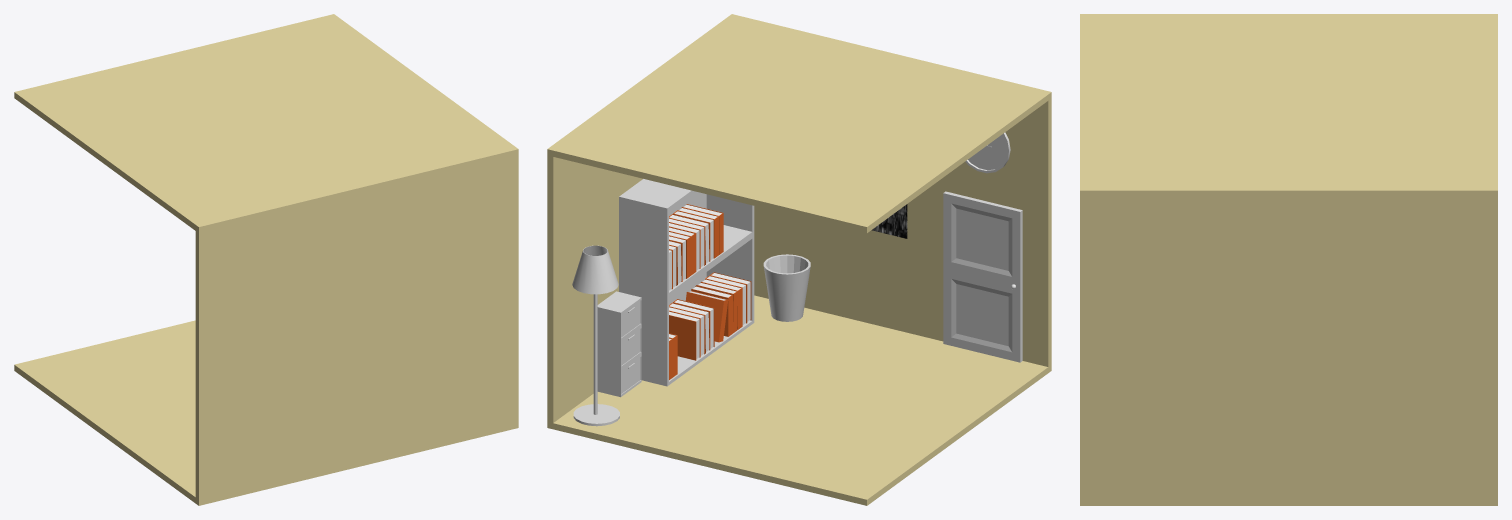
Rendered from Test_jeux_1.fbx.
3 views of the same model, side by side, from view 1: azimuth 30°, elevation 25°; view 2: azimuth 150°, elevation 25°; view 3: azimuth 270°, elevation 25° (orthographic). The views are drawn at different scales.
Visible parts, largest first — view 1: Box002; view 2: Box002, Box004, Box003, Box011, Box001, Cylinder001, Tube001, Cylinder002, Cylinder003, Box005, Cylinder004; view 3: Box002.
Boxes of the visible parts, x1=… form: Box002: x1=14, y1=14, x2=518, y2=505; Box002: x1=547, y1=14, x2=1051, y2=505; Box004: x1=619, y1=179, x2=754, y2=386; Box003: x1=943, y1=191, x2=1022, y2=362; Box011: x1=669, y1=204, x2=751, y2=379; Box001: x1=597, y1=291, x2=641, y2=397; Cylinder001: x1=763, y1=254, x2=810, y2=321; Tube001: x1=572, y1=245, x2=618, y2=294; Cylinder002: x1=965, y1=132, x2=1010, y2=173; Cylinder003: x1=573, y1=404, x2=619, y2=426; Box005: x1=871, y1=204, x2=907, y2=238; Cylinder004: x1=593, y1=294, x2=597, y2=414; Box002: x1=1080, y1=14, x2=1497, y2=505.
Bounding box in the file's own units: 257 × 214 × 257.
Materials: 5 (1 with a texture image).
